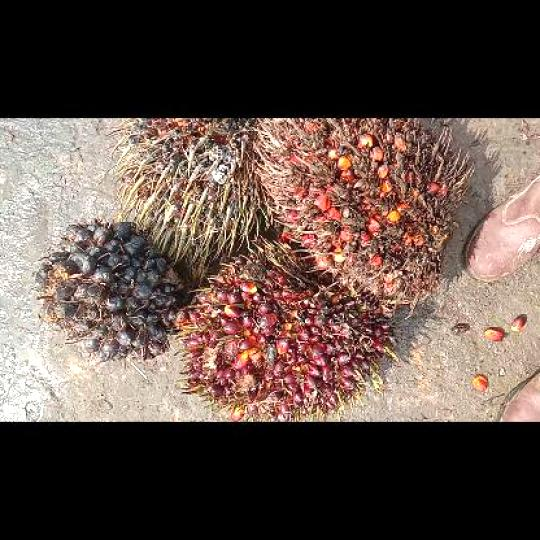masak: (177, 242, 397, 420)
terlalu masak: (256, 118, 474, 313)
